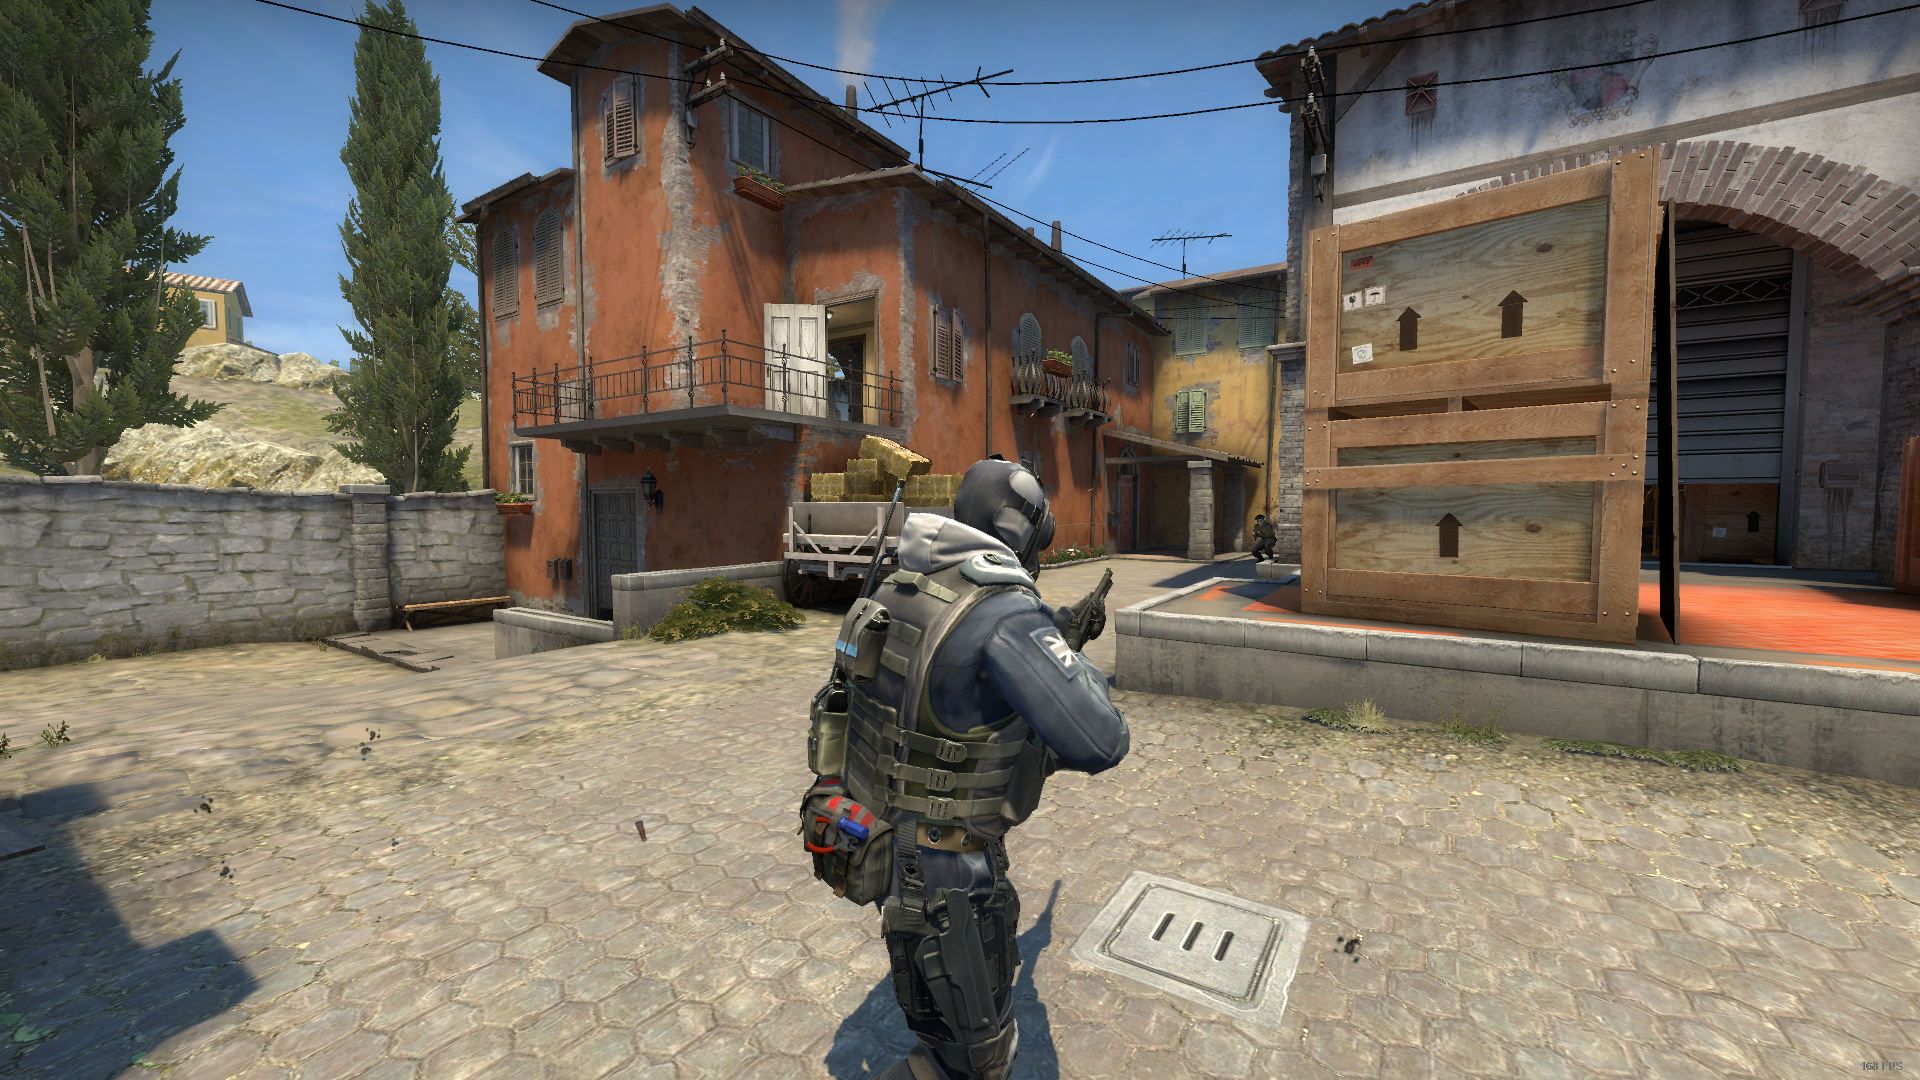ct: (804, 458, 1129, 1080)
t: (1251, 516, 1276, 566)
